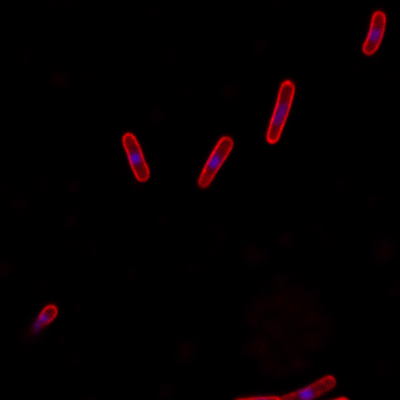Nalidixate: (263, 79, 297, 147), (193, 135, 234, 189), (120, 130, 152, 185), (359, 10, 387, 57)
Oblique: (28, 301, 61, 338)
